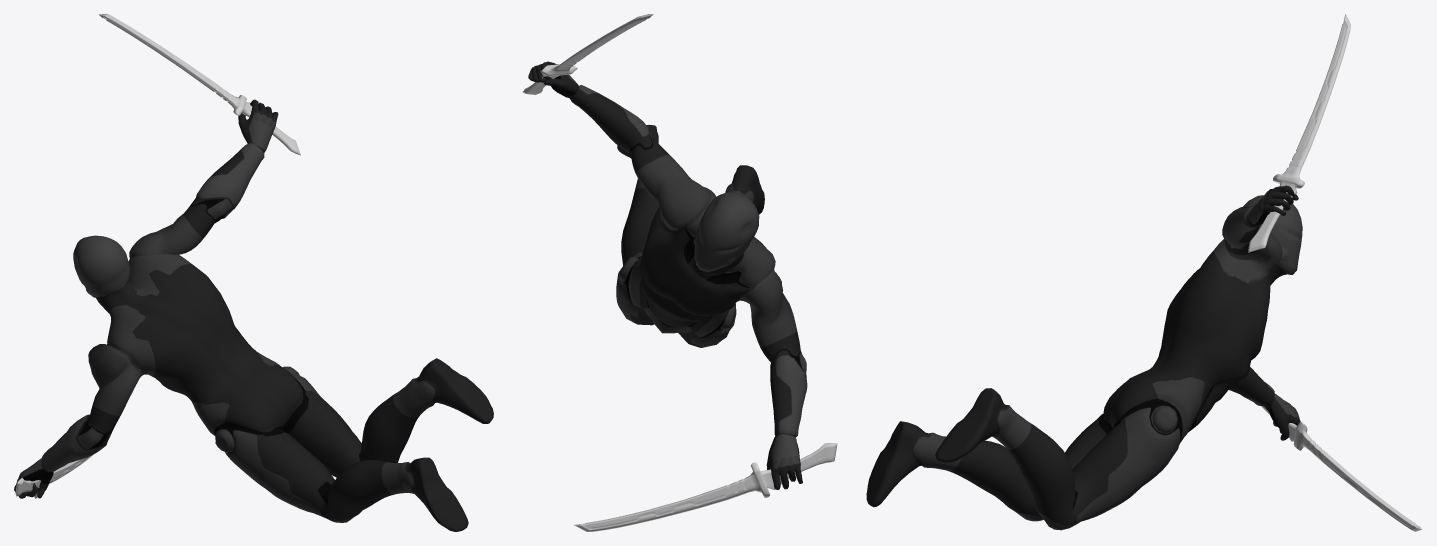
3 renders of one model, left to right at view 1: azimuth 30°, elevation 25°; view 2: azimuth 150°, elevation 25°; view 3: azimuth 270°, elevation 25°, orthographic. The views are drawn at different scales.
Parts seen in each view (by area): view 1: Cyborg_Ninja_Killer, Sword_l001, Sword_l; view 2: Cyborg_Ninja_Killer, Sword_l, Sword_l001; view 3: Cyborg_Ninja_Killer, Sword_l001, Sword_l.
Part boxes in pixels (bbox=[...]): Cyborg_Ninja_Killer: bbox=[14, 99, 493, 531]; Sword_l001: bbox=[99, 14, 300, 155]; Sword_l: bbox=[15, 454, 93, 498]; Cyborg_Ninja_Killer: bbox=[528, 61, 807, 489]; Sword_l: bbox=[574, 443, 837, 531]; Sword_l001: bbox=[523, 14, 653, 94]; Cyborg_Ninja_Killer: bbox=[866, 185, 1302, 530]; Sword_l001: bbox=[1248, 14, 1350, 252]; Sword_l: bbox=[1261, 406, 1422, 531].
Size of the model in its own units: 134 by 178 by 179.
